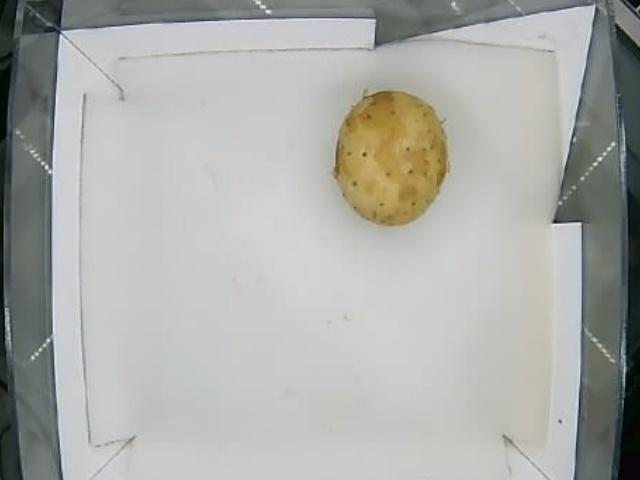Potato: (336, 91, 448, 227)
